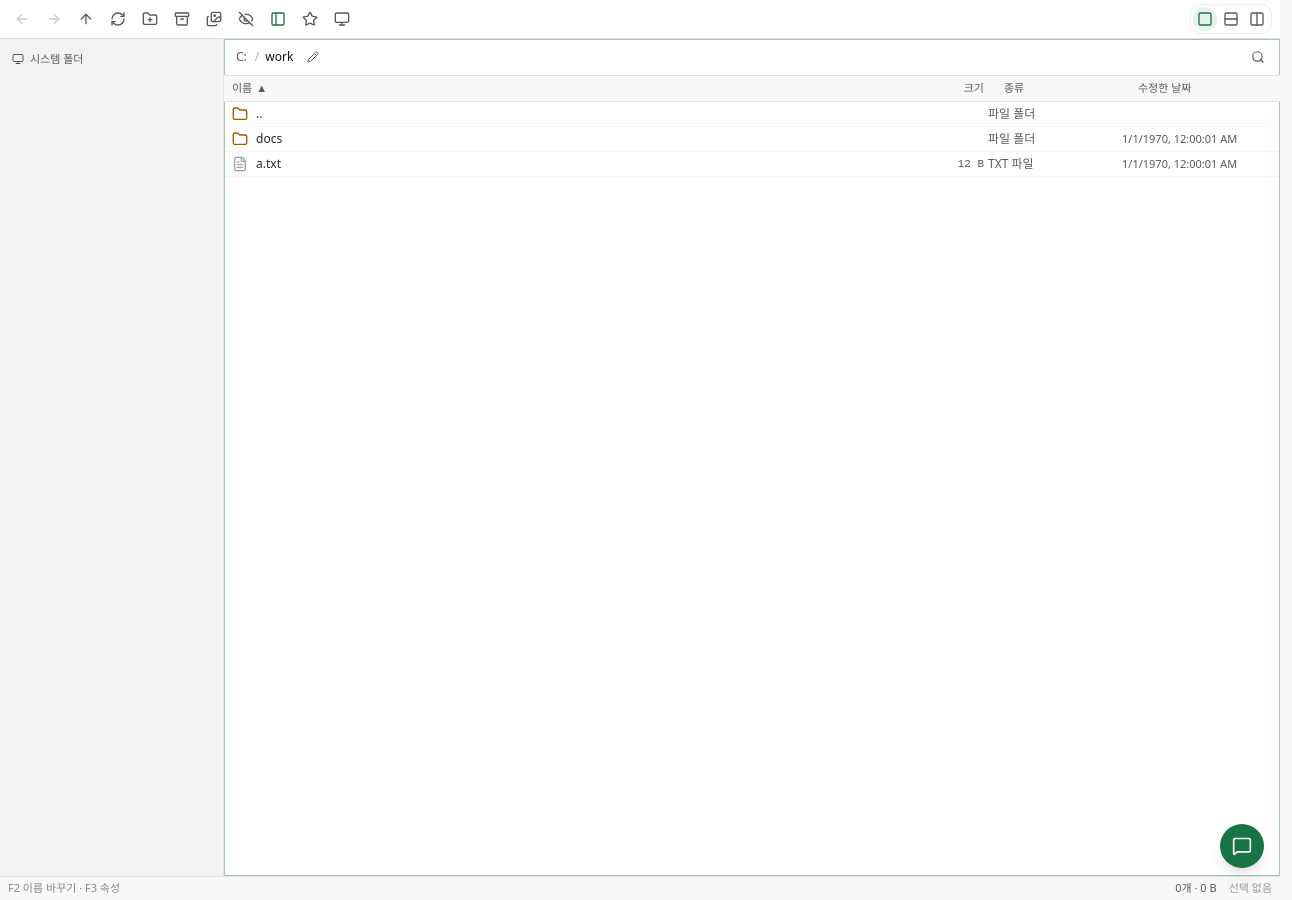
Test: FileExplorerTab › toggles the image album with the toolbar button and F9
Expected: the text "a.txt" is shown, [256,156,281,172]
# docs 폴더로 이동한다 (b.txt + photo.png).
Double-click the text "docs".
double_click(269, 138)  # box [256,130,282,146]
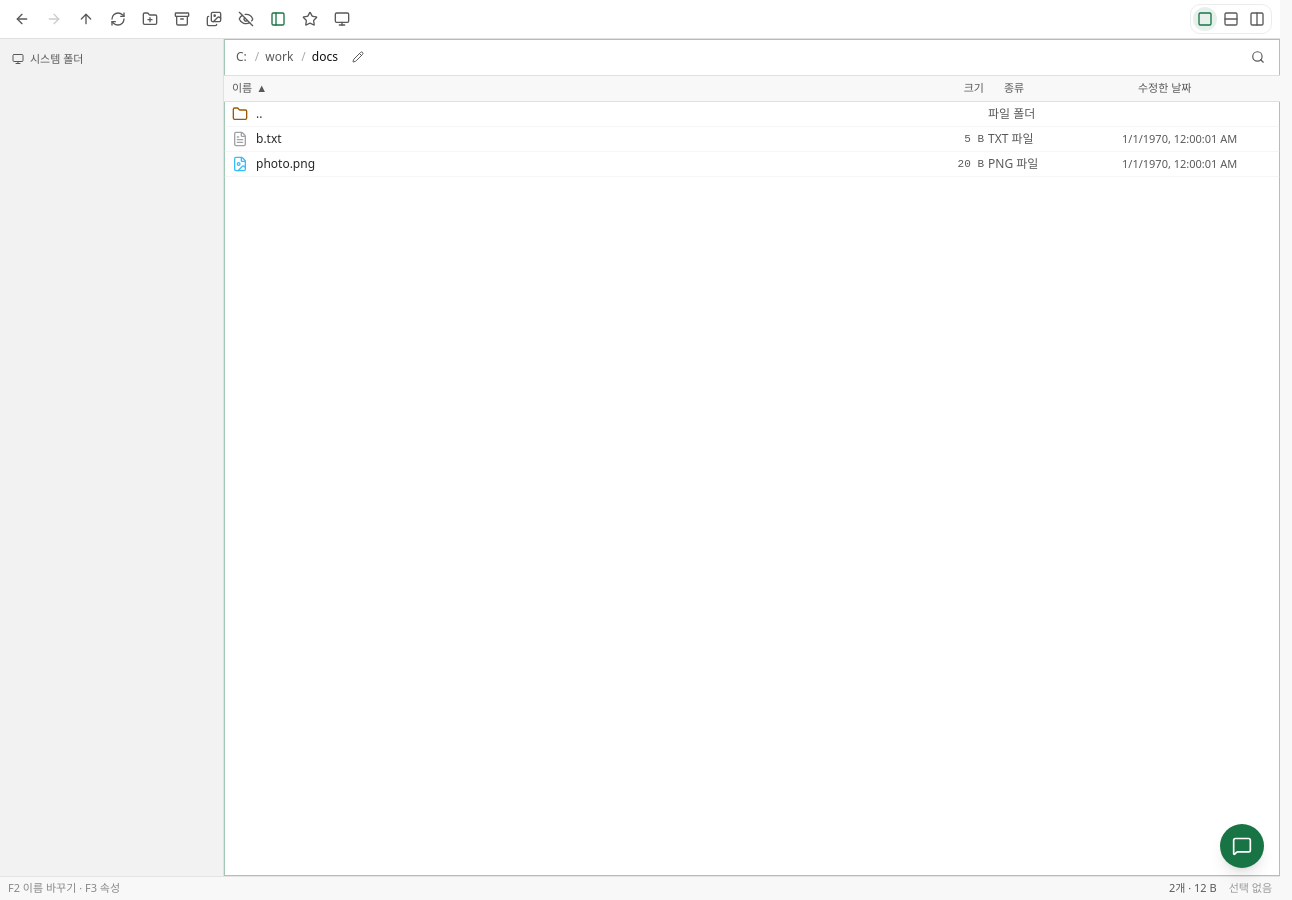
Now the text "b.txt" is shown, box [256,130,282,146]
Click the button titled "이미지 앨범 (F9)".
click(214, 19)  # box [200,5,228,33]
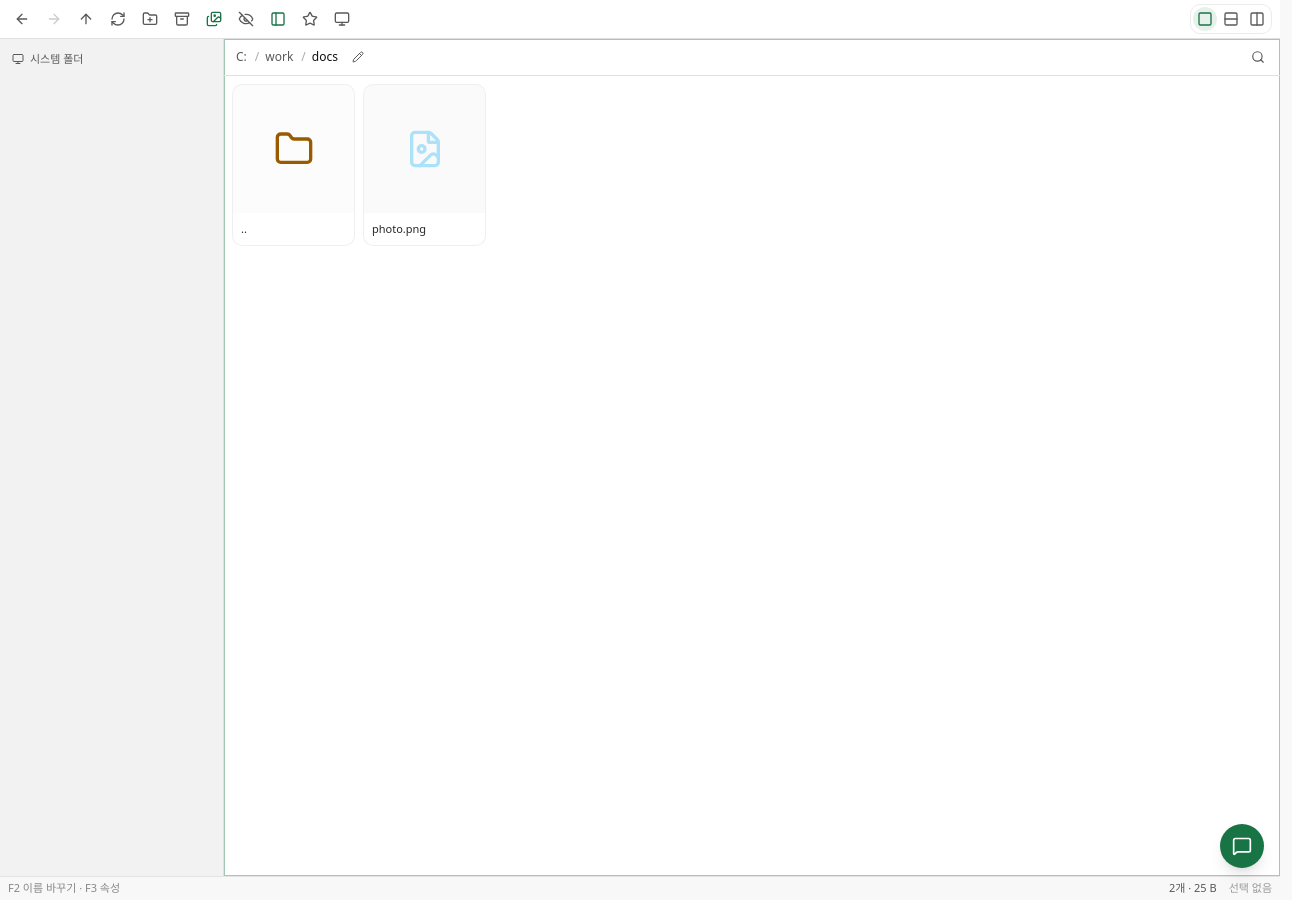
Expected: the text ".." is shown, [241,221,247,236]
Now the text "b.txt" is gone
# F9로 목록으로 복귀한다.
Press F9
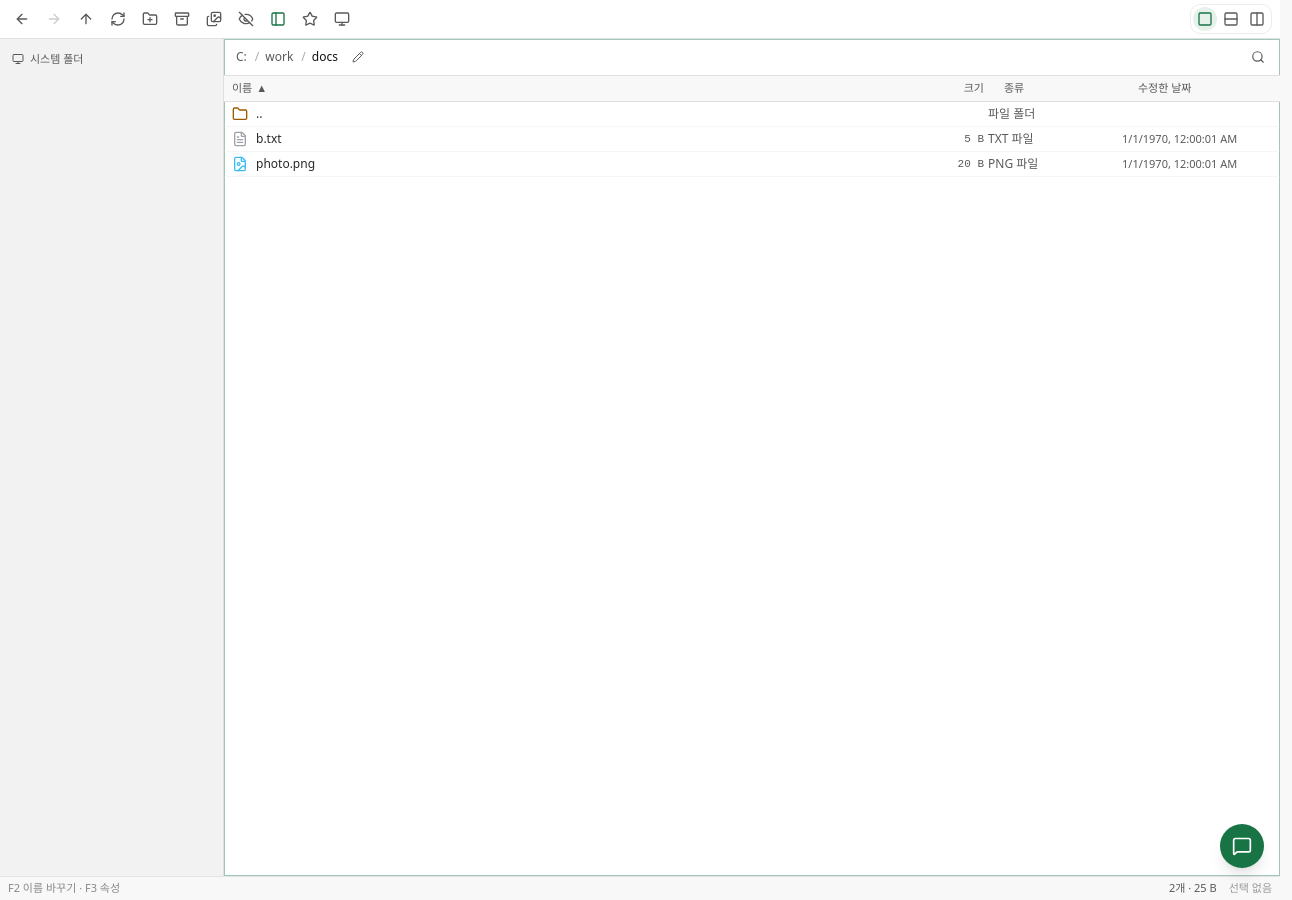
Now the text "b.txt" is shown, box [256,130,282,146]
